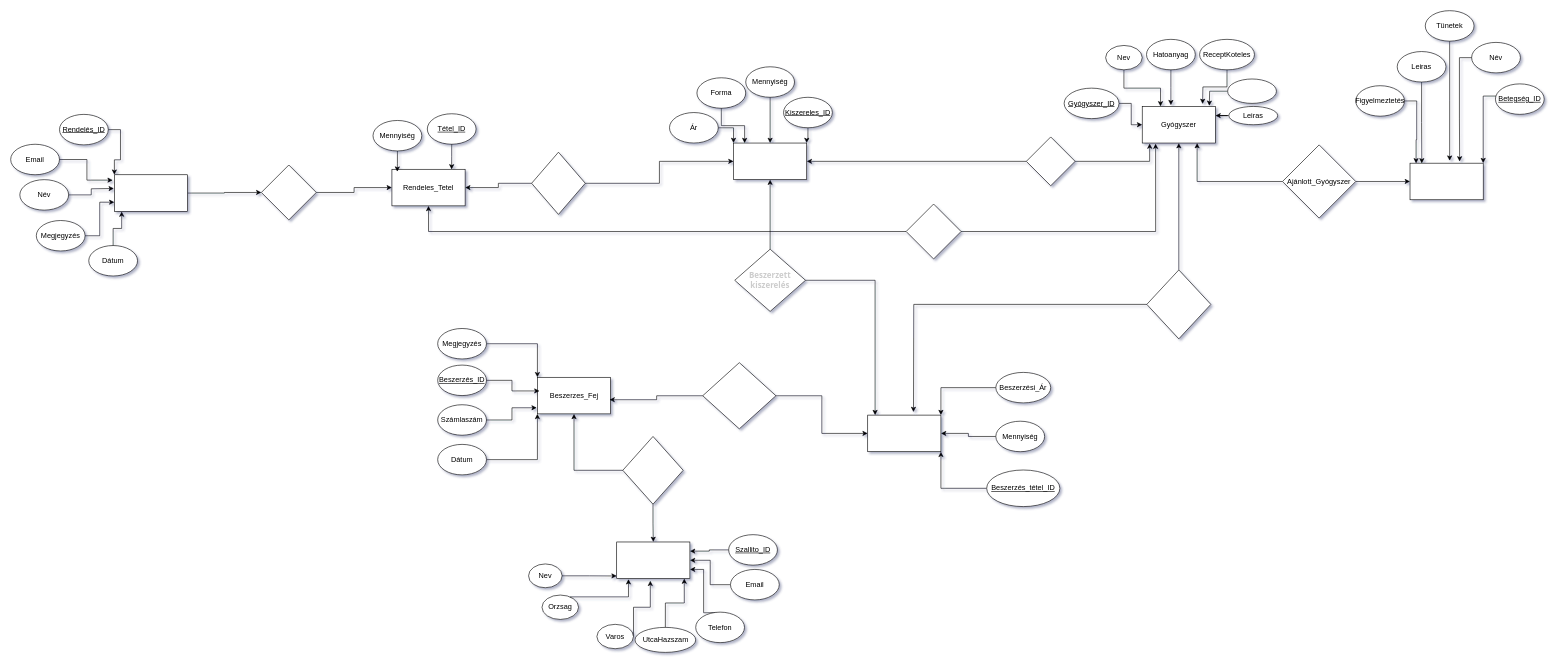
Some shapes in this 1559 by 667 pixel diagram are drawn without their labels. The centre of each missing label's shape, as x and y in pixels:
Beszerzes_Tetel: point 904,433
Beszerzett gyógyszer: point 1178,304
Beszerzés tételei: point 739,395
Betegség: point 1446,181
Kategoria: point 1251,90
Kiszerelés: point 770,161
Rendeles_Fej: point 151,192
Rendelt gyógyszer: point 933,231
Rendelt kiszerelés: point 558,183
Rendelés tételei: point 288,192
Szallito: point 653,560
Szállító beszerzései: point 652,470
Tartalmaz: point 1050,161
